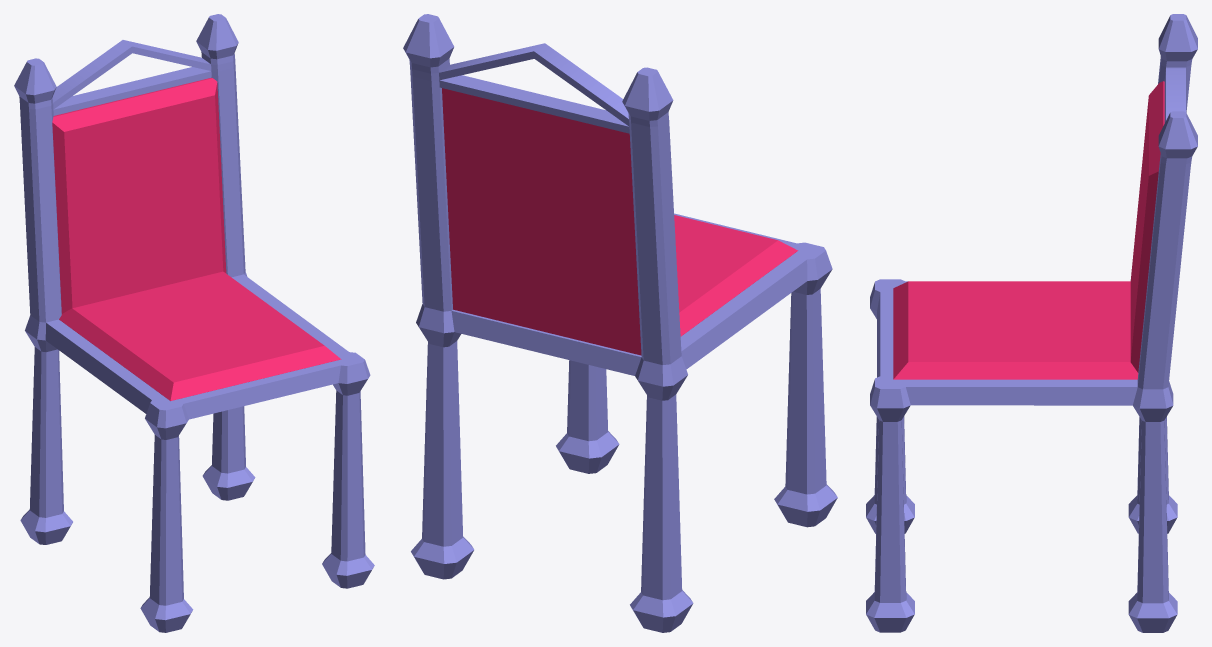
File: chair.FBX
The picture shows the model from 3 angles, left to right: view 1: azimuth 30°, elevation 25°; view 2: azimuth 150°, elevation 25°; view 3: azimuth 270°, elevation 25°; orthographic projection. The views are drawn at different scales.
Visible parts, largest first — view 1: chair; view 2: chair; view 3: chair.
Boxes of the visible parts, left/top/right/bottom form: chair: left=14, top=14, right=374, bottom=632; chair: left=403, top=14, right=837, bottom=632; chair: left=866, top=14, right=1197, bottom=632.
Bounding box in the file's own units: 0.5304 × 1.08 × 0.632.
